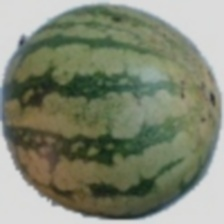watermelon: (3, 38, 177, 190)
